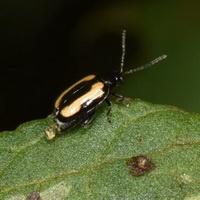insect: (45, 30, 166, 140)
